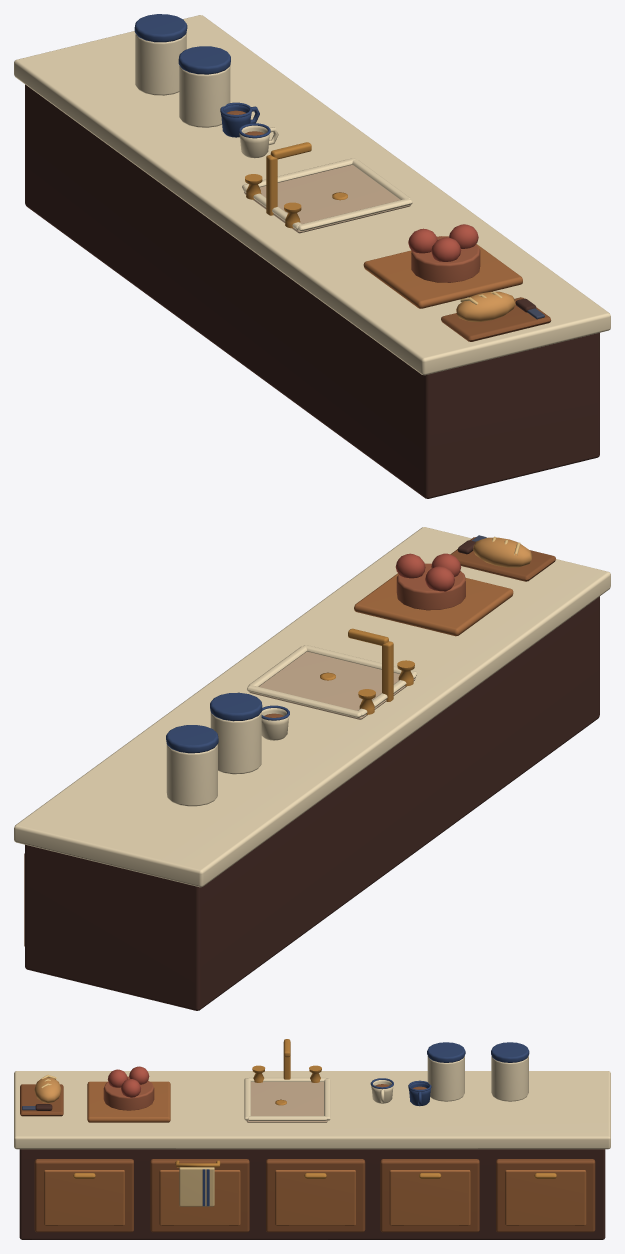
Rendered from kitchen-counter.glb.
The picture shows the model from 3 angles, top to bottom: view 1: azimuth 30°, elevation 25°; view 2: azimuth 150°, elevation 25°; view 3: azimuth 270°, elevation 25°; orthographic projection. The views are drawn at different scales.
Parts seen in each view (by area): view 1: kitchen_counter_pivot_Mesh; view 2: kitchen_counter_pivot_Mesh; view 3: kitchen_counter_pivot_Mesh.
Boxes of the visible parts, x1,y1,x2,y2 form: kitchen_counter_pivot_Mesh: (14,14,610,498); kitchen_counter_pivot_Mesh: (14,527,610,1010); kitchen_counter_pivot_Mesh: (14,1039,610,1239).
Bounding box in the file's own units: 1.68 × 1.68 × 5.89.
